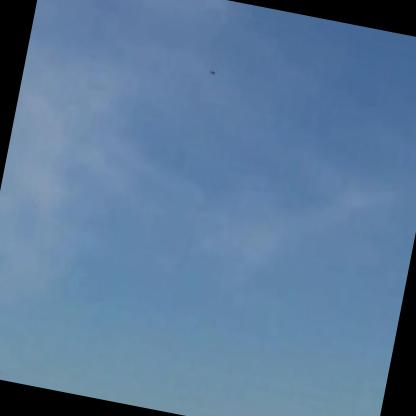plane: (206, 65, 218, 79)
